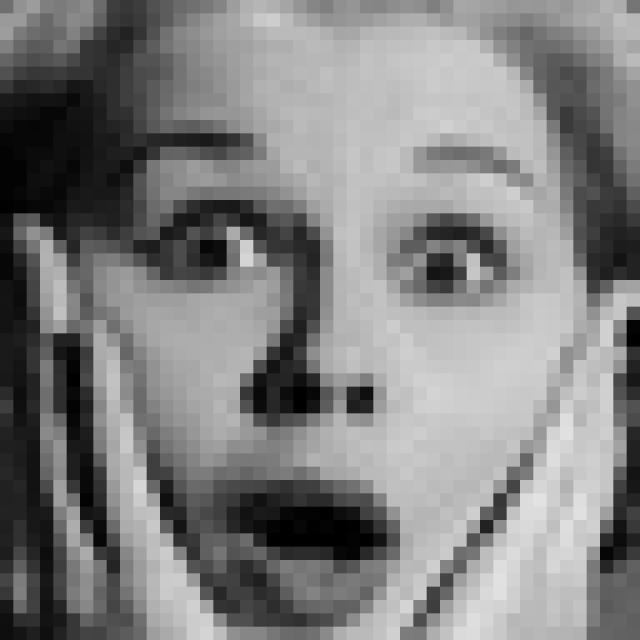surprise: (111, 120, 554, 629)
